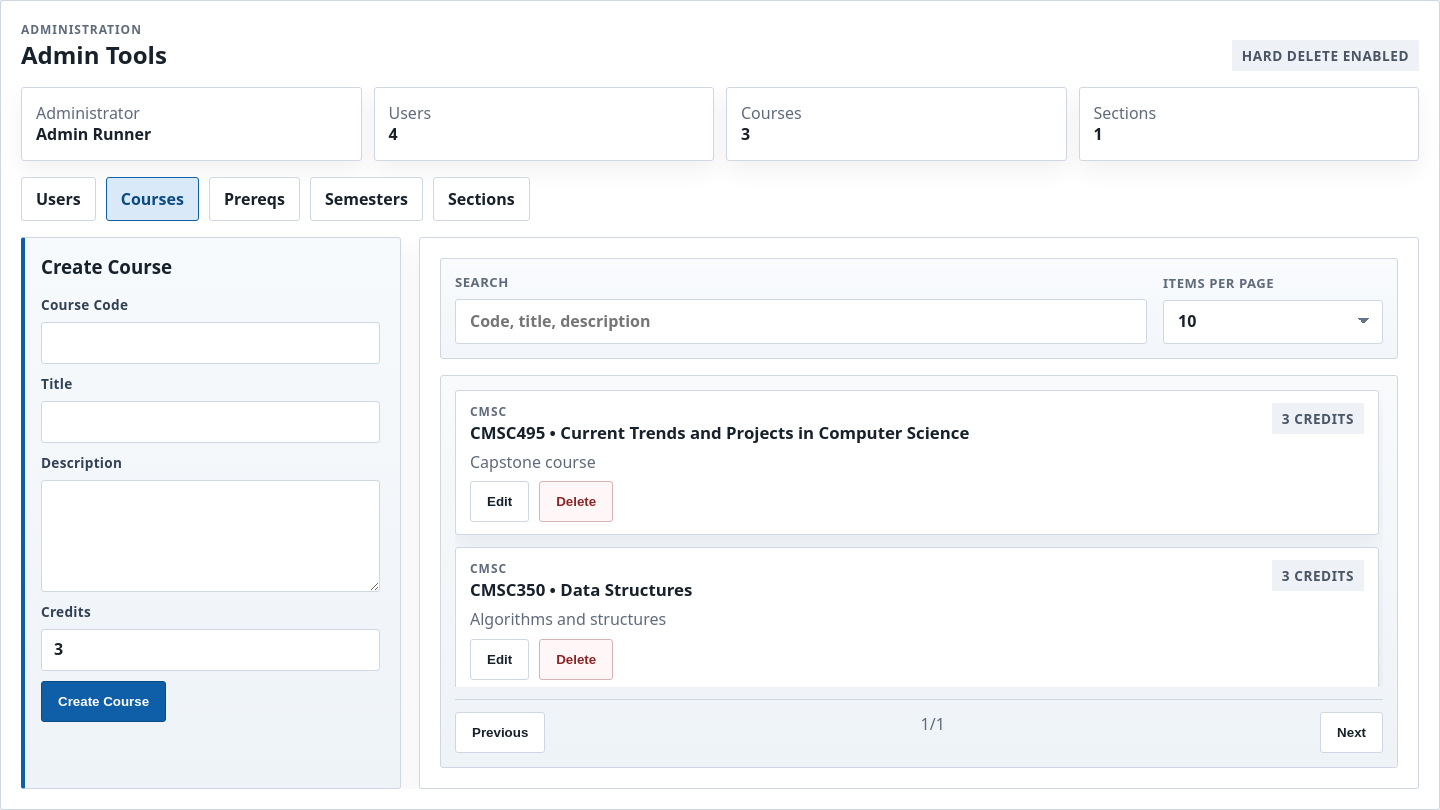
Test case: AdminConsolePage › keeps the users tool tab in admin tools instead of falling back to admin home
The image size is (1440, 810).
Expected: the heading "Create Course" is shown, [41,254,172,279]
Click the button "Users": click(58, 199) [21,177,96,221]
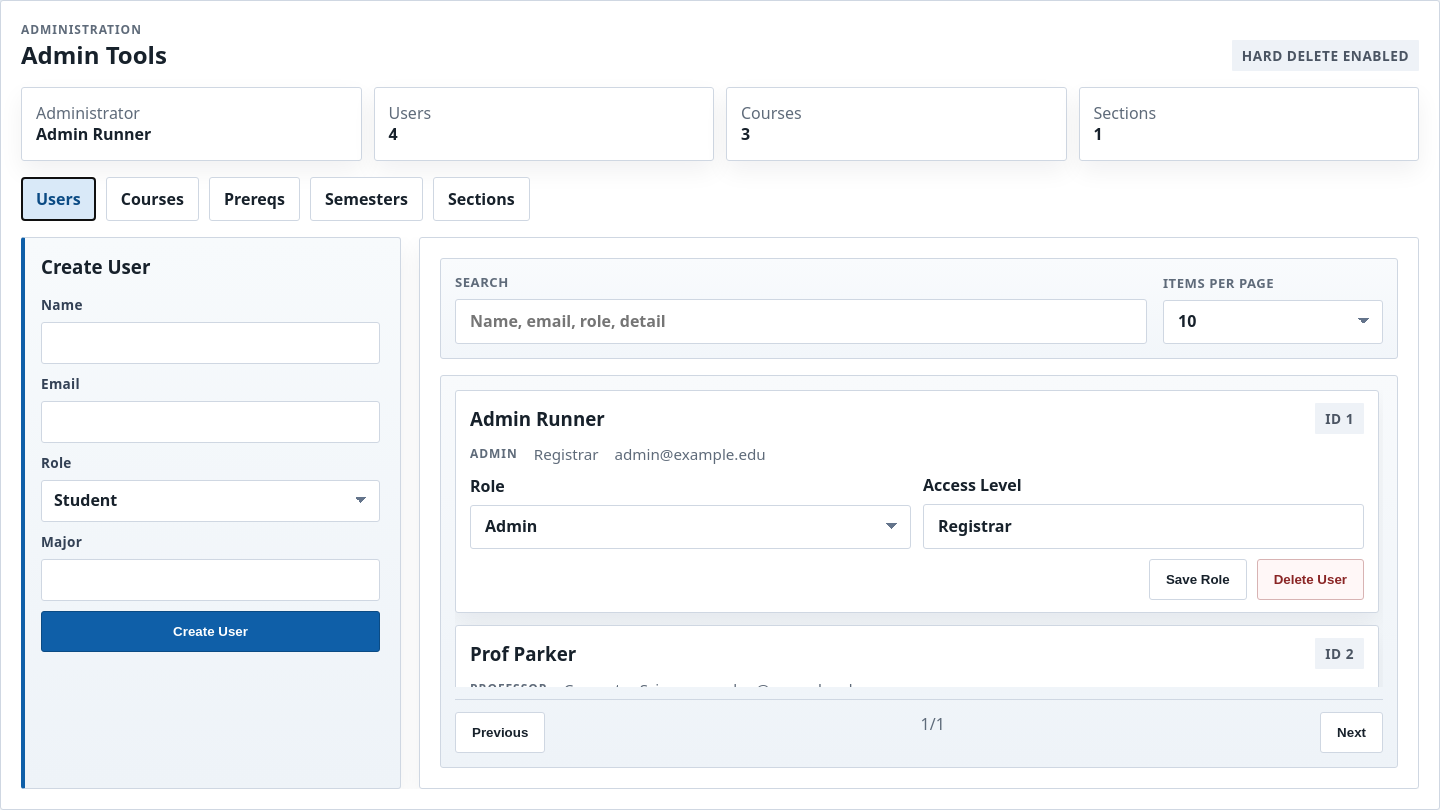
Expected: the heading "Admin Tools" is shown, [21,38,167,71]
Expected: the heading "Create User" is shown, [41,254,150,279]
